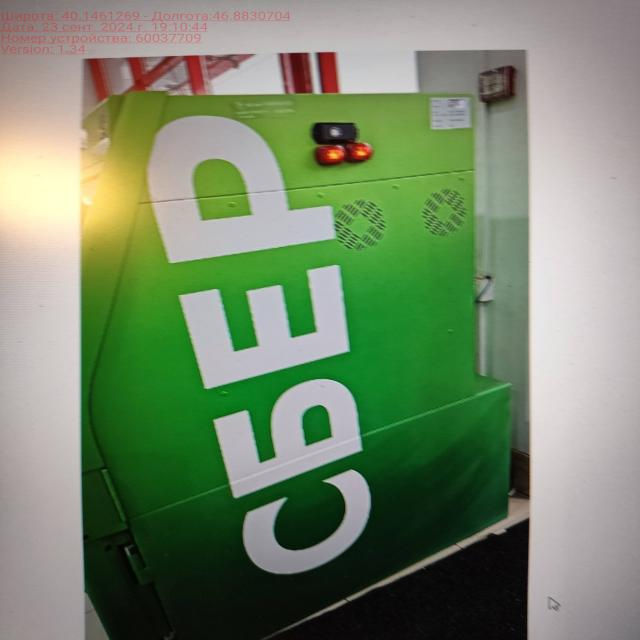bank: (74, 87, 516, 640)
